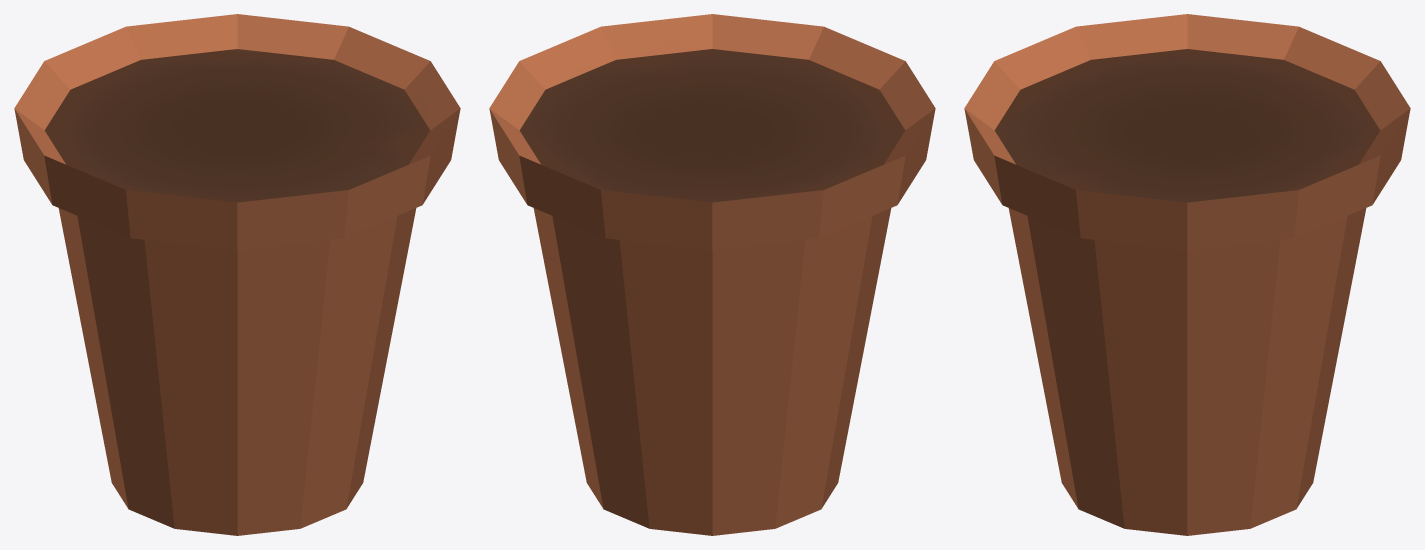
Rendered from vaso.fbx.
3 renders of one model, left to right at view 1: azimuth 30°, elevation 25°; view 2: azimuth 150°, elevation 25°; view 3: azimuth 270°, elevation 25°, orthographic.
Visible parts, largest first — view 1: vaso; view 2: vaso; view 3: vaso.
Part boxes in pixels (box(x1,y1,x2,y2)): vaso: box(14, 14, 460, 535); vaso: box(489, 14, 935, 535); vaso: box(964, 14, 1410, 535).
Size of the model in its own units: 81.78 by 75.73 by 81.78.
Materials: 1 (1 with a texture image).
